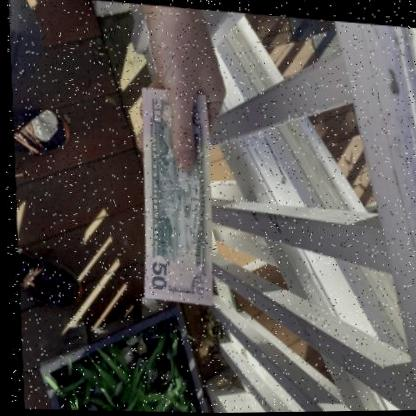fifty-back: (138, 86, 207, 303)
